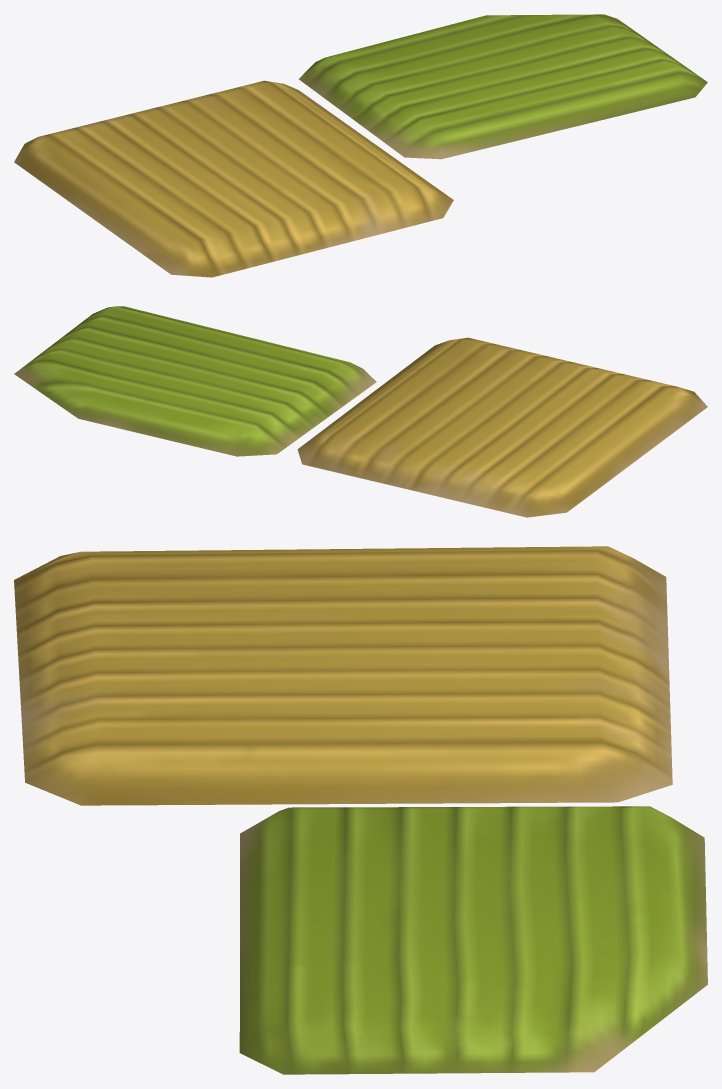
File: field_ground_0018.fbx
The picture shows the model from 3 angles, top to bottom: view 1: azimuth 30°, elevation 25°; view 2: azimuth 150°, elevation 25°; view 3: azimuth 270°, elevation 25°; orthographic projection. The views are drawn at different scales.
Visible parts, largest first — view 1: field_ground_0018; view 2: field_ground_0018; view 3: field_ground_0018.
Part boxes in pixels (x1=…): field_ground_0018: x1=14, y1=14, x2=707, y2=277; field_ground_0018: x1=14, y1=306, x2=707, y2=517; field_ground_0018: x1=14, y1=546, x2=707, y2=1074.
Bounding box in the file's own units: 361 × 10.89 × 203.
